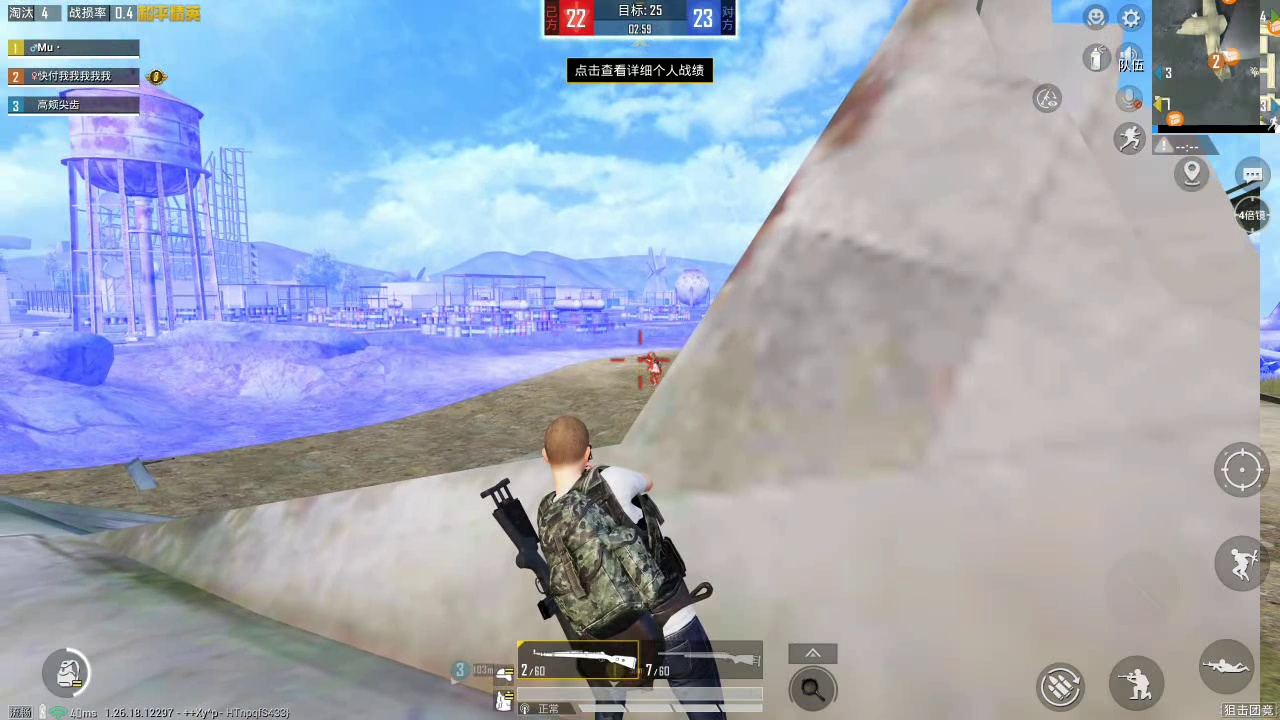enemy: (643, 346, 658, 384)
